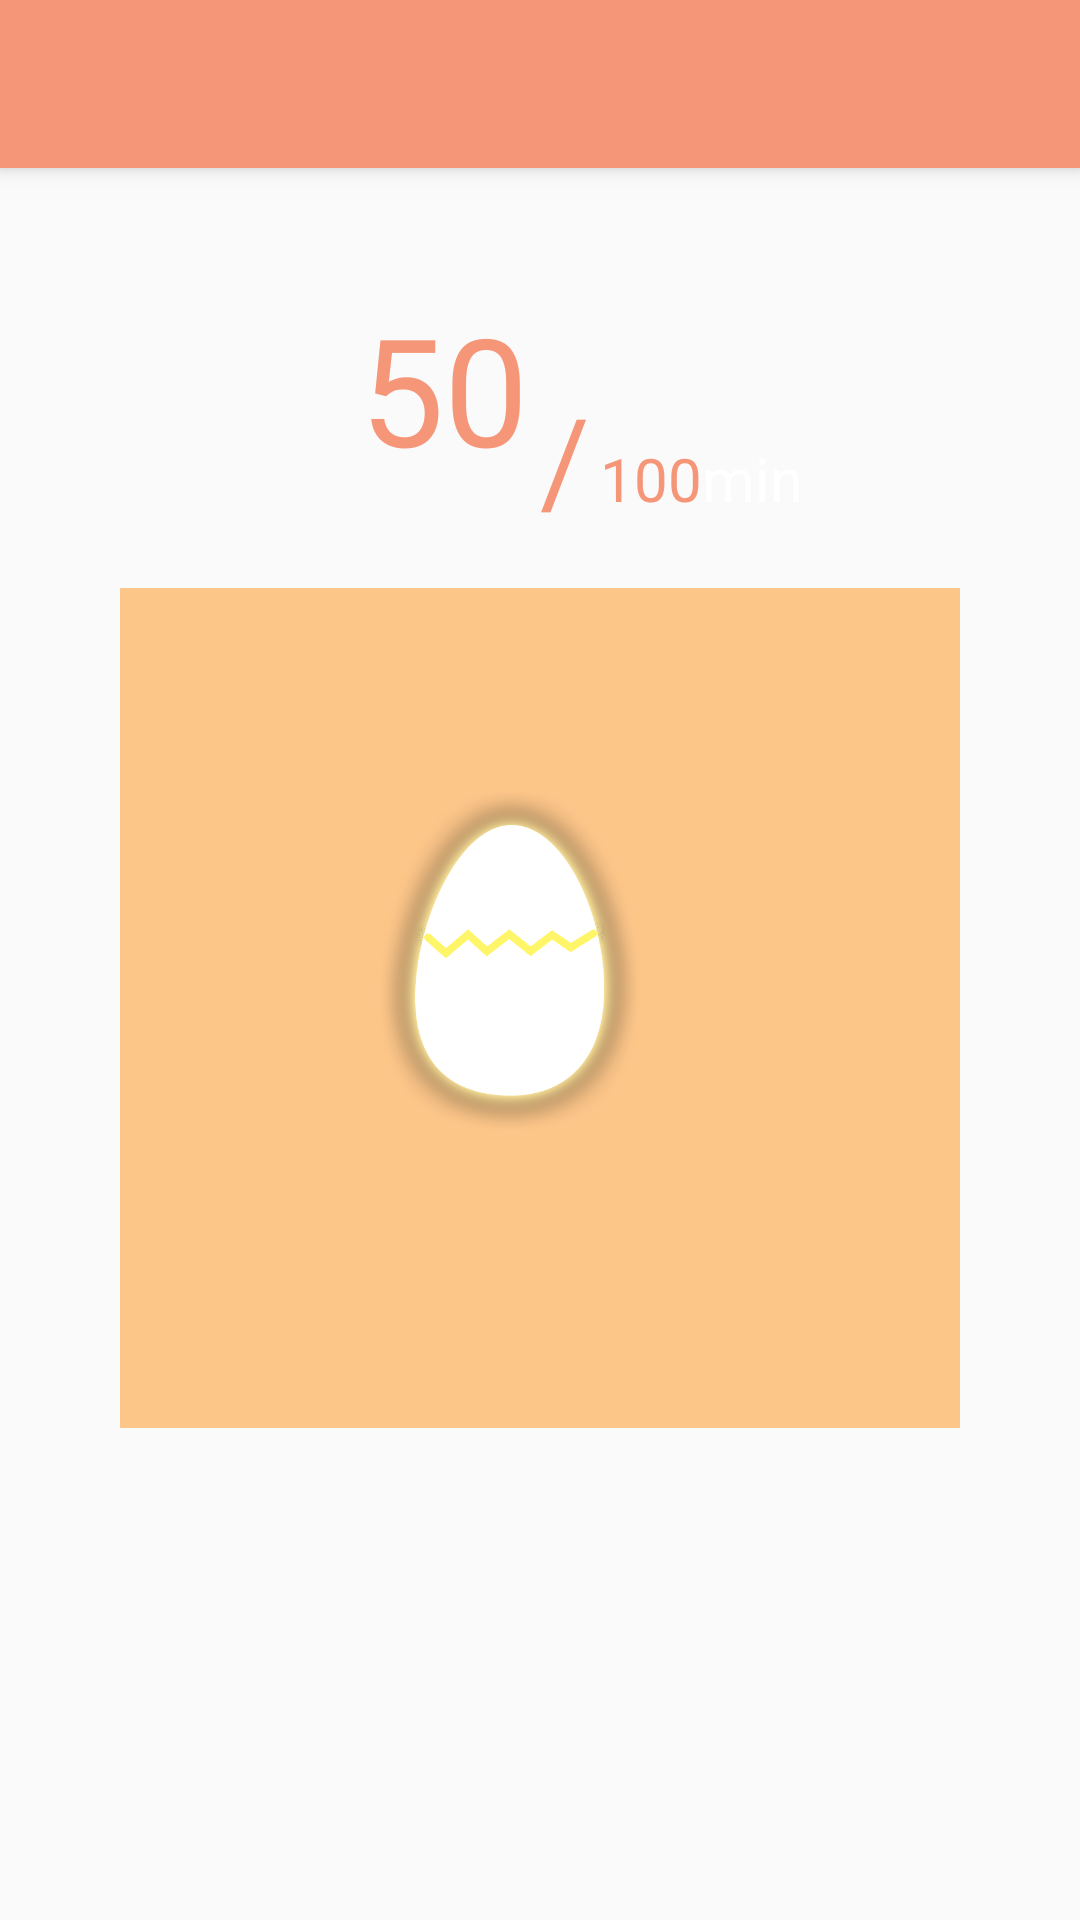

Where icons sit on this 1080w x 1920h app screen, as box=[x1, y1, x2, y2]:
egg: box=[392, 803, 628, 1119]
